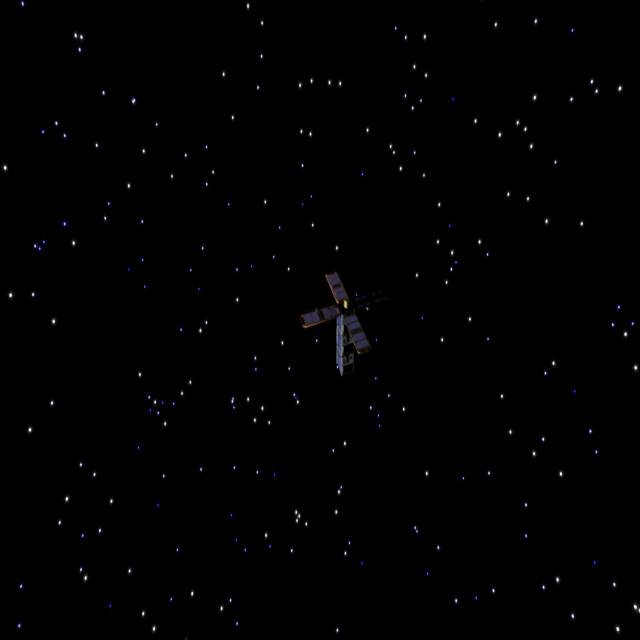satellite: (294, 265, 386, 379)
